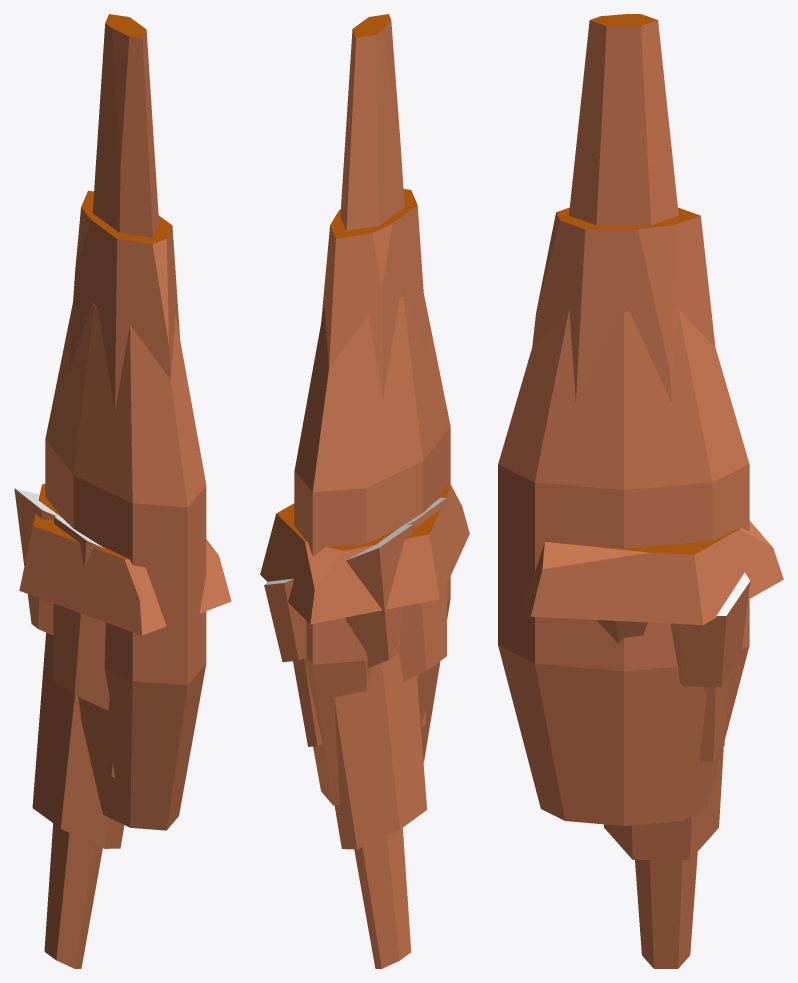
Rendered from astroid02.glb.
The picture shows the model from 3 angles, left to right: view 1: azimuth 30°, elevation 25°; view 2: azimuth 150°, elevation 25°; view 3: azimuth 270°, elevation 25°; orthographic projection. The views are drawn at different scales.
Parts seen in each view (by area): view 1: mergedBlocks(Clone); view 2: mergedBlocks(Clone); view 3: mergedBlocks(Clone).
Part boxes in pixels (x1,y1,x2,y2): mergedBlocks(Clone): (14, 14, 231, 968); mergedBlocks(Clone): (260, 14, 469, 968); mergedBlocks(Clone): (498, 14, 783, 968).
Bounding box in the file's own units: 0.7313 × 4 × 1.08.
1 material, 1 textured.
